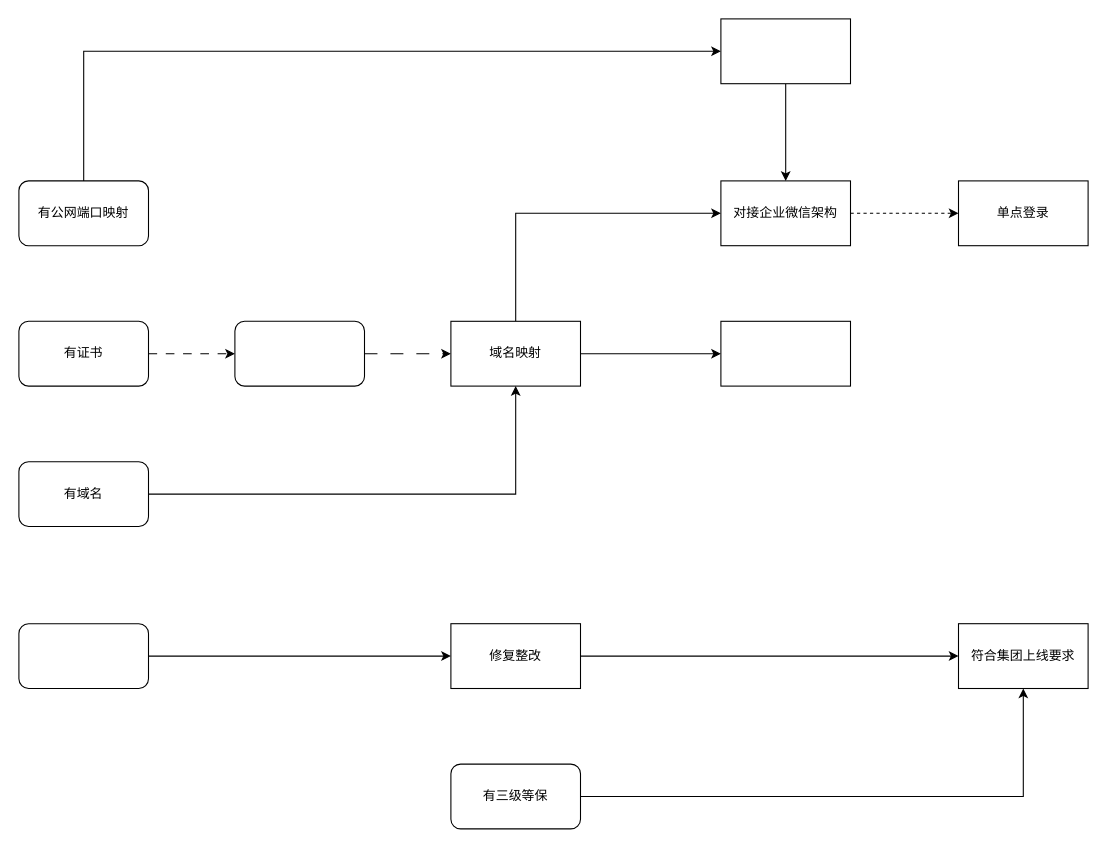
The diagram is 1107 pixels wide and 848 high, and some of its shapes have lost their labels. The centre of each missing label's shape, as x and y in pixels:
HTTPS: point (299, 353)
应用上企业微信: point (785, 353)
有漏扫: point (83, 655)
门户对接: point (785, 51)
